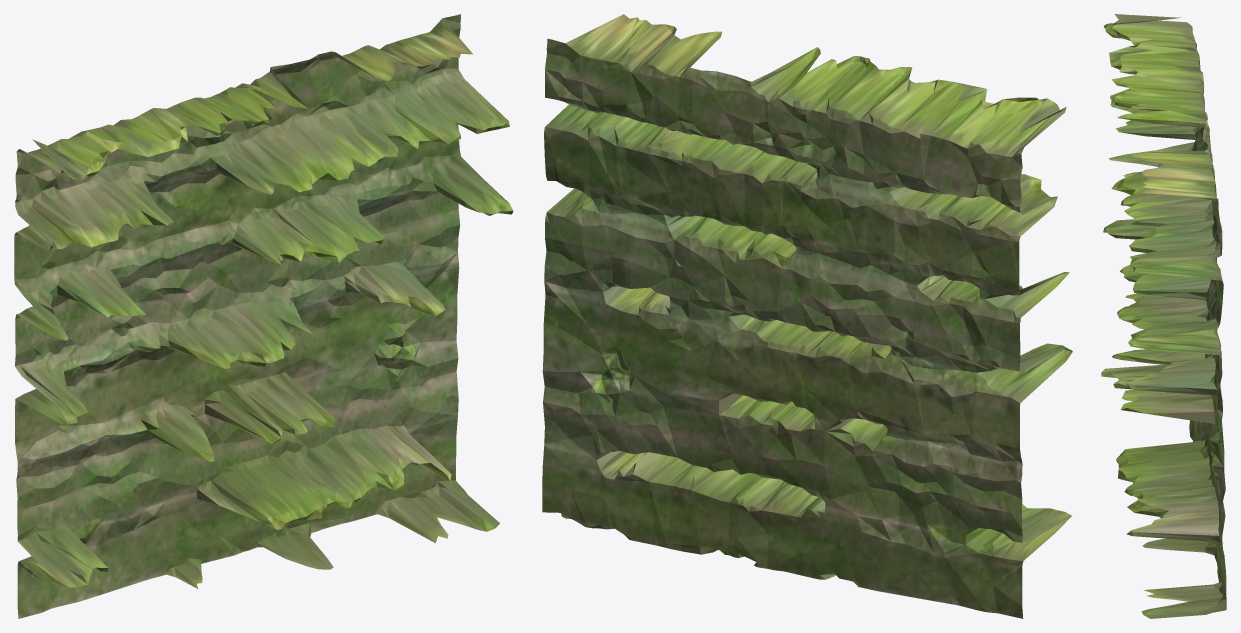
File: map_130_70.obj
3 views of the same model, side by side, from view 1: azimuth 30°, elevation 25°; view 2: azimuth 150°, elevation 25°; view 3: azimuth 270°, elevation 25° (orthographic). The views are drawn at different scales.
Visible parts, largest first — view 1: grp1; view 2: grp1; view 3: grp1.
Boxes of the visible parts, <box> form: grp1: <box>14,14,513,618</box>; grp1: <box>542,14,1072,618</box>; grp1: <box>1101,14,1226,618</box>.
Size of the model in its own units: 10 by 10 by 2.76.
Materials: 1 (1 with a texture image).
